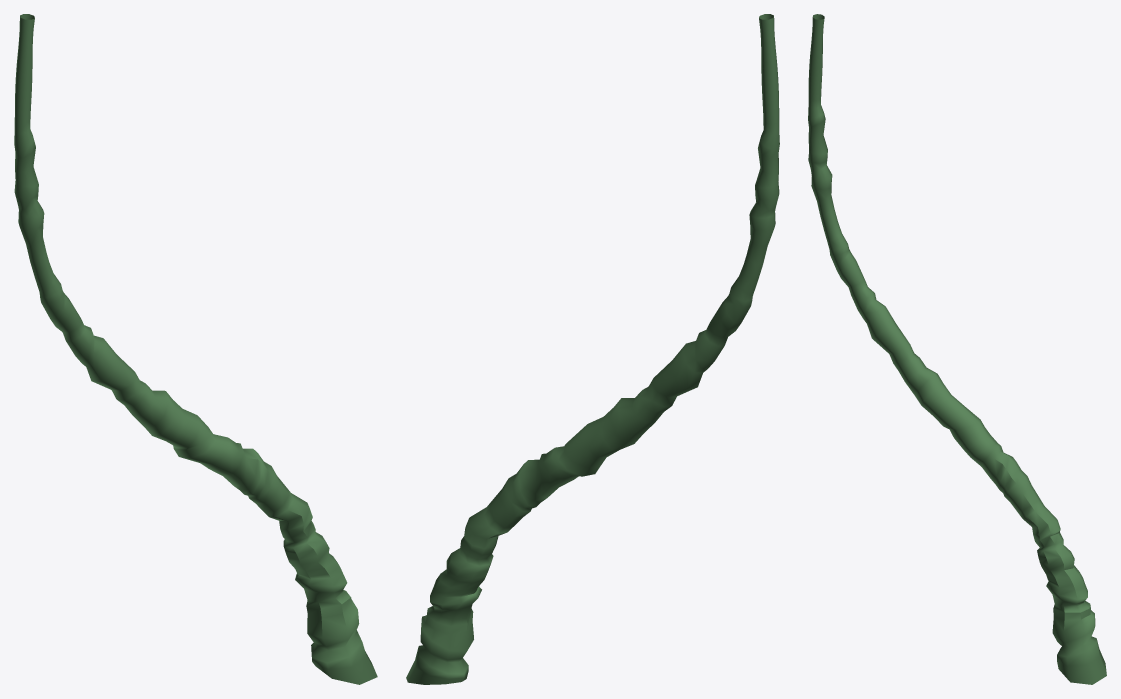
File: experimentpalm 1.fbx
3 renders of one model, left to right at view 1: azimuth 30°, elevation 25°; view 2: azimuth 150°, elevation 25°; view 3: azimuth 330°, elevation 25°, orthographic. The views are drawn at different scales.
Visible parts, largest first — view 1: palm_tree_BASE; view 2: palm_tree_BASE; view 3: palm_tree_BASE.
Part boxes in pixels (x1,y1,x2,y2): palm_tree_BASE: [14, 14, 377, 684]; palm_tree_BASE: [406, 14, 779, 684]; palm_tree_BASE: [808, 14, 1106, 684].
Size of the model in its own units: 10.43 by 20.34 by 1.51.
